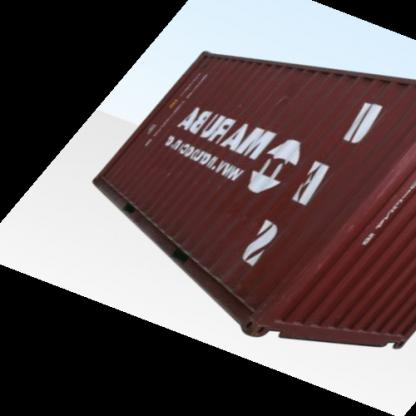Damage: (370, 134, 415, 221), (213, 258, 257, 304), (216, 202, 262, 237), (270, 80, 292, 117), (147, 158, 182, 178)
